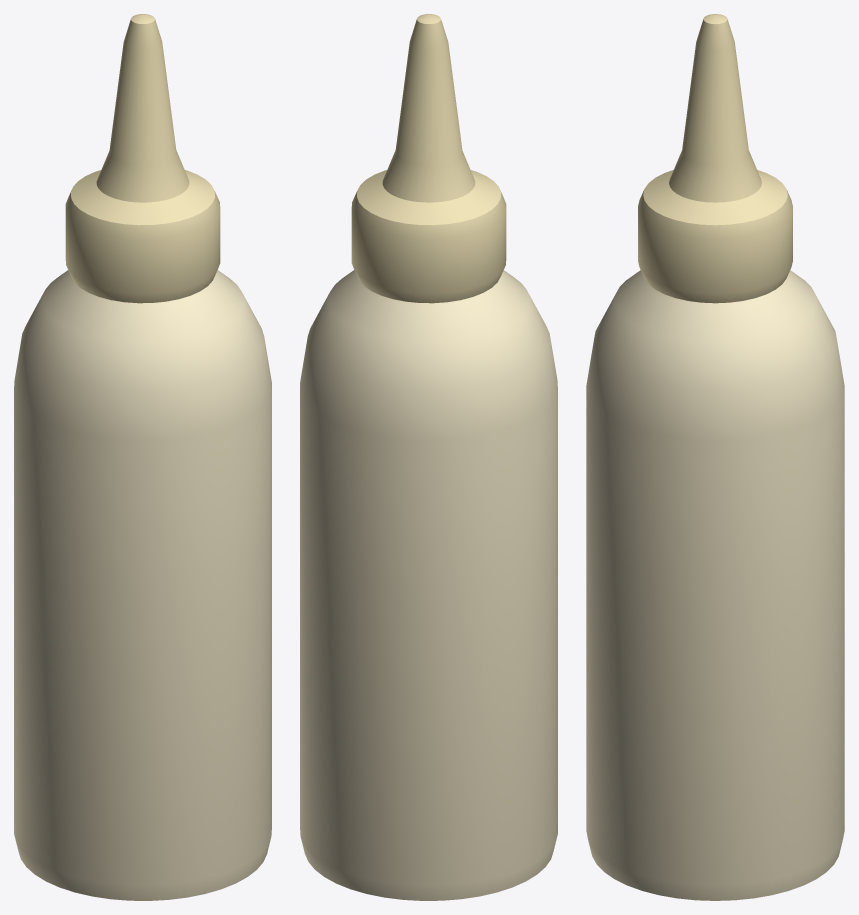
File: Mayo_Bottle.fbx
3 views of the same model, side by side, from view 1: azimuth 30°, elevation 25°; view 2: azimuth 150°, elevation 25°; view 3: azimuth 270°, elevation 25° (orthographic).
Visible parts, largest first — view 1: Mayo_Bottle; view 2: Mayo_Bottle; view 3: Mayo_Bottle.
Part boxes in pixels (x1,y1,x2,y2): Mayo_Bottle: (14, 14, 271, 900); Mayo_Bottle: (300, 14, 557, 900); Mayo_Bottle: (586, 14, 844, 900).
Size of the model in its own units: 0.06 by 0.215 by 0.06.
